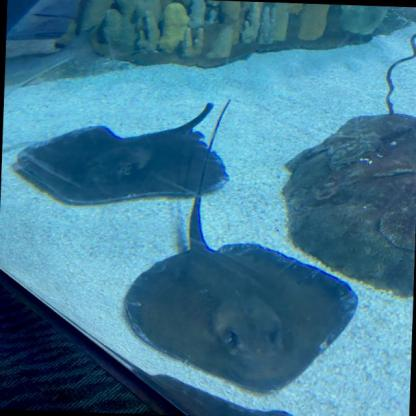fish: (3, 22, 104, 124)
stingray: (120, 239, 359, 395), (13, 124, 229, 212)
